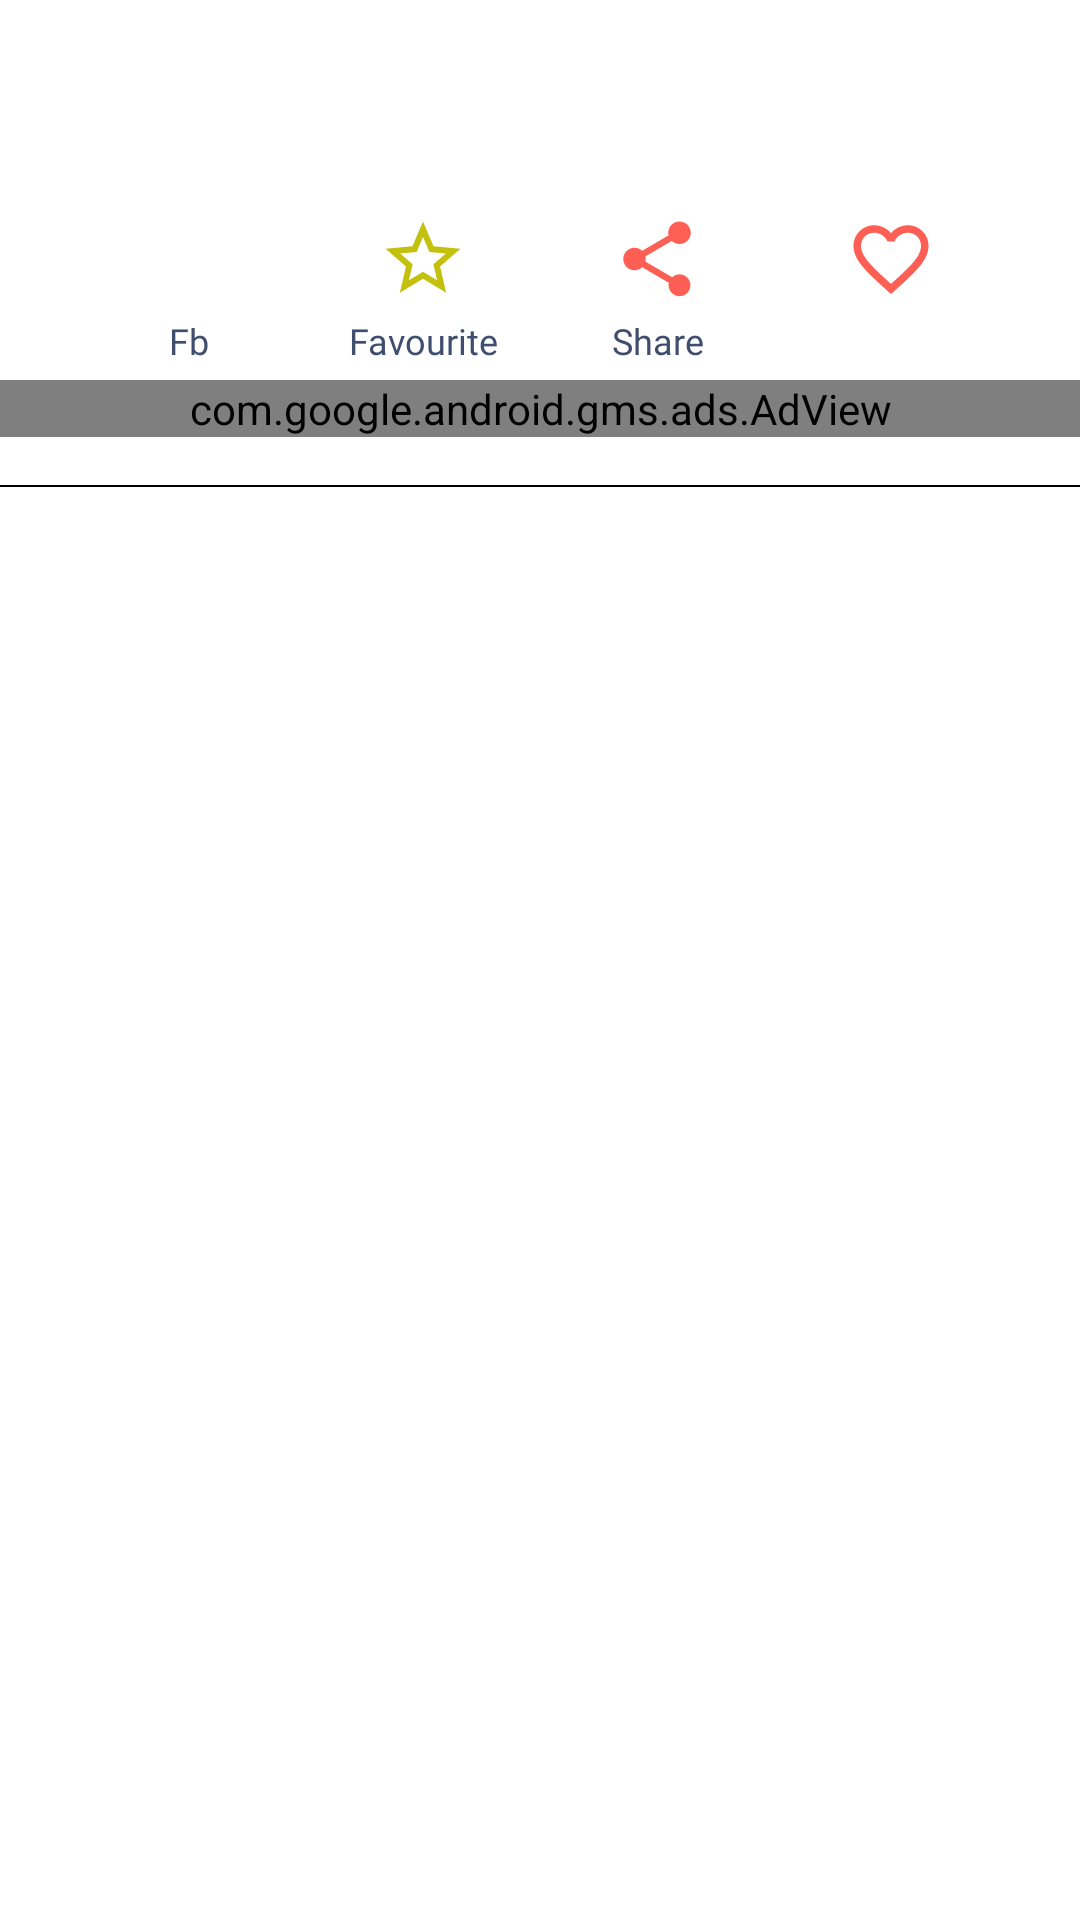

Icons on this 1080×1920 Android screen, each with the point to tap as (x,y):
radio like layout: (891,259)
